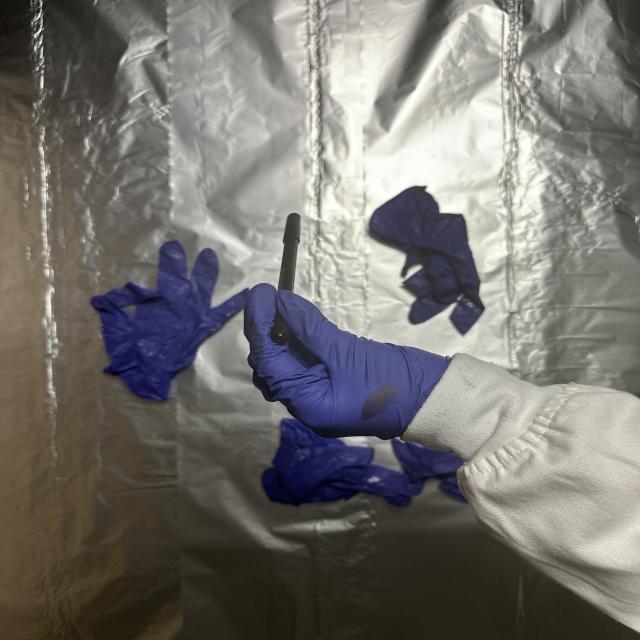gloves_contaminated: (244, 283, 449, 439)
